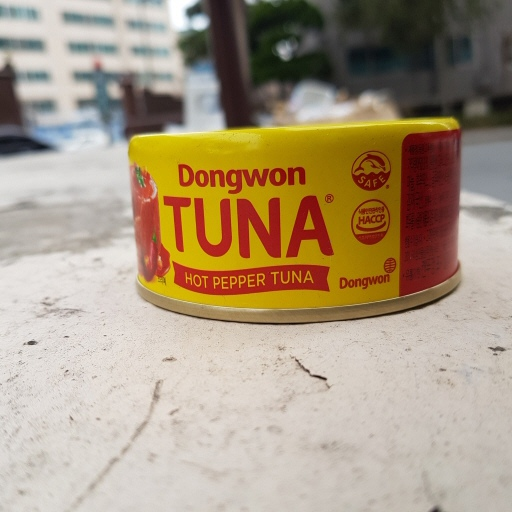Metal_1: (125, 118, 467, 326)
